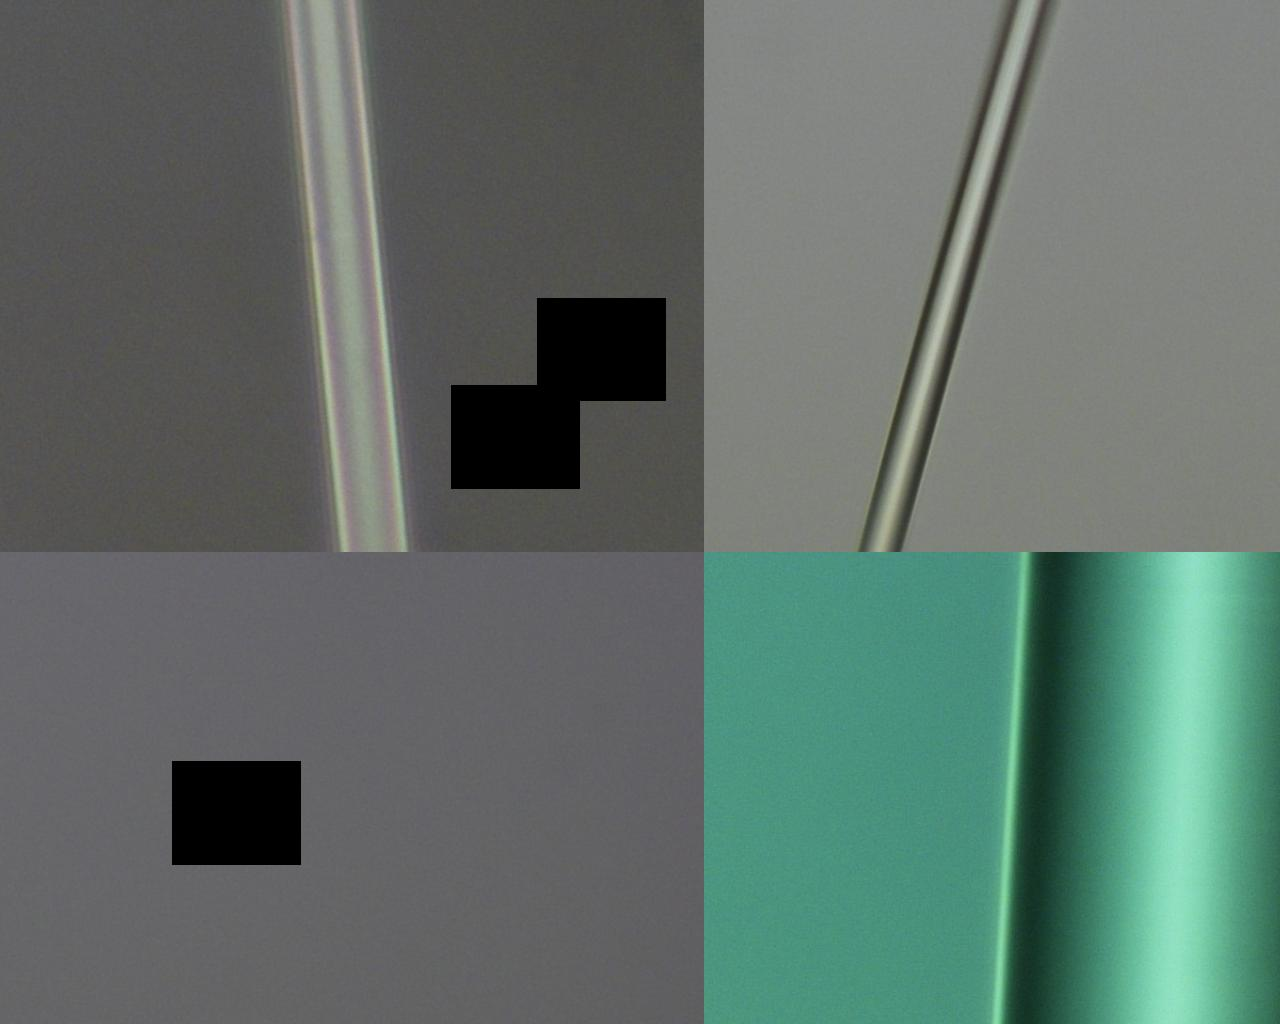fiber: (195, 501, 734, 1024), (1013, 0, 1243, 501), (439, 0, 644, 501)
